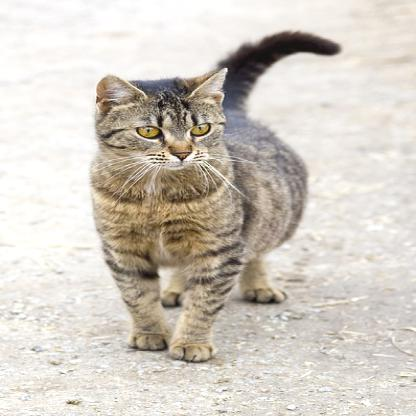cat: (90, 29, 342, 362)
